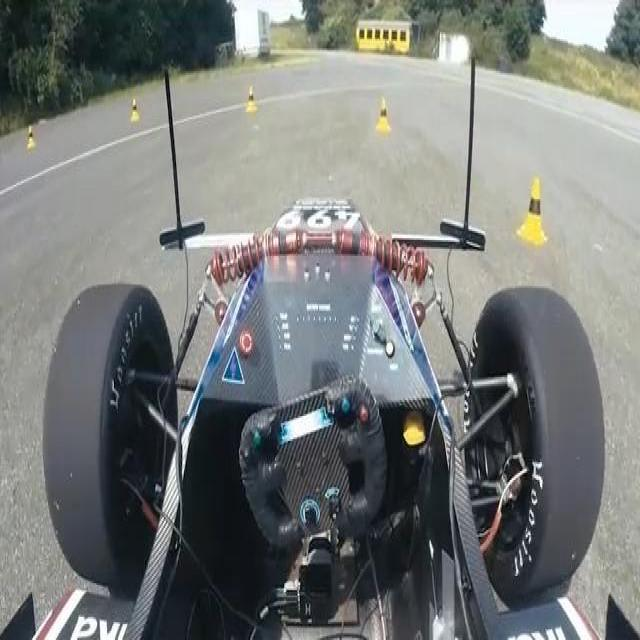yellow_cone: (518, 176, 547, 245), (376, 98, 392, 131), (245, 85, 258, 112), (27, 124, 37, 150), (130, 98, 140, 122)
